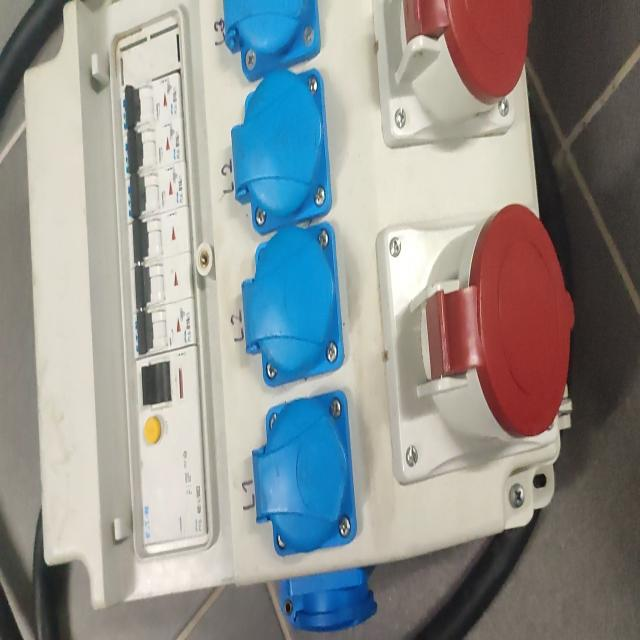400v socket: (376, 206, 574, 488), (371, 1, 533, 147)
house plug covered: (253, 393, 358, 558), (242, 221, 345, 386), (231, 69, 332, 234), (223, 1, 320, 83), (279, 566, 380, 632)
